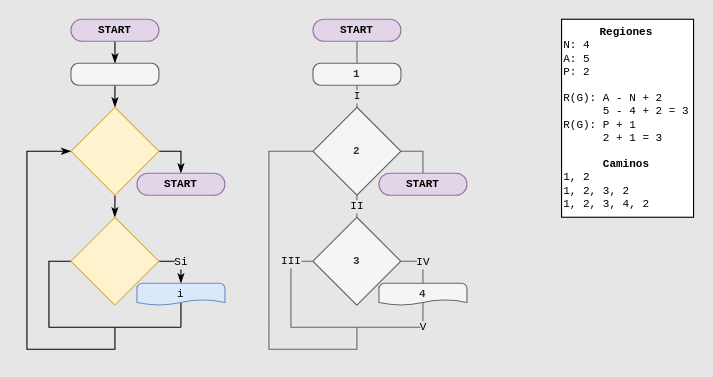
Image size: 713x377. Some labels were removed from this diagram. The box of each missing label's shape, as (x1, y1, x2, y2) in pixels:
for i in range 11: (70, 106, 159, 195)
i % 2 != 0: (70, 216, 159, 305)
i = 0: (70, 62, 159, 85)
